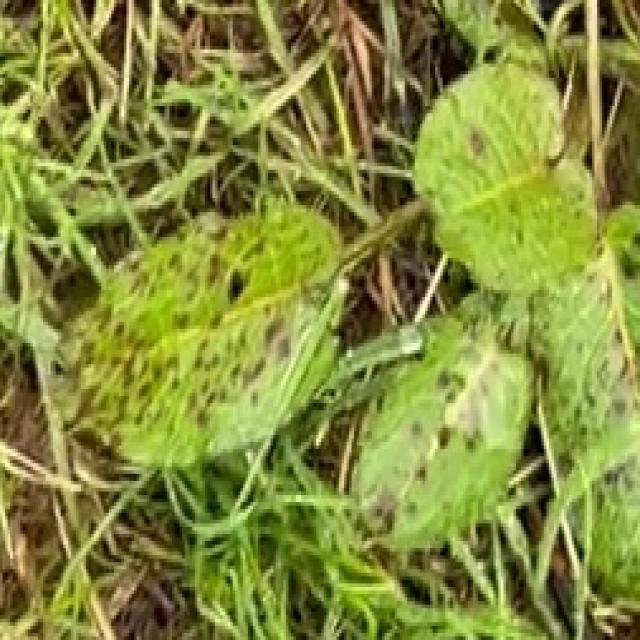organic waste: (81, 7, 640, 601)
